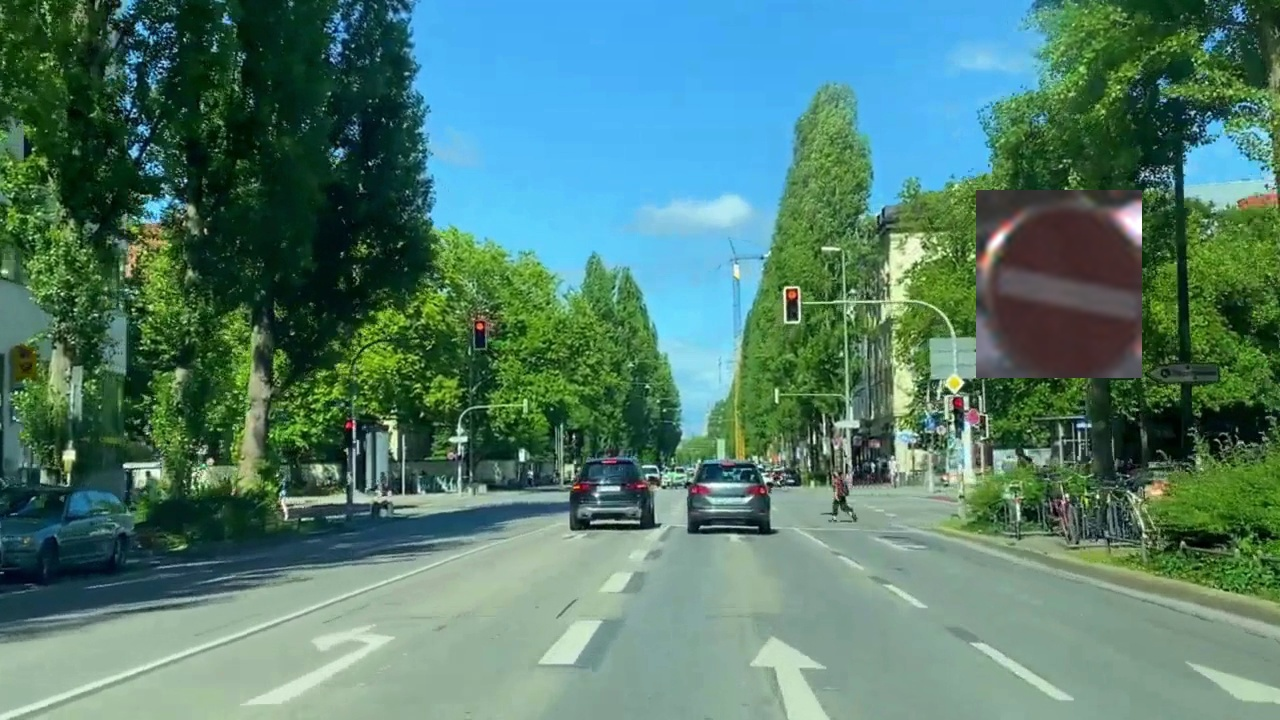No entry: (976, 190, 1142, 378)
